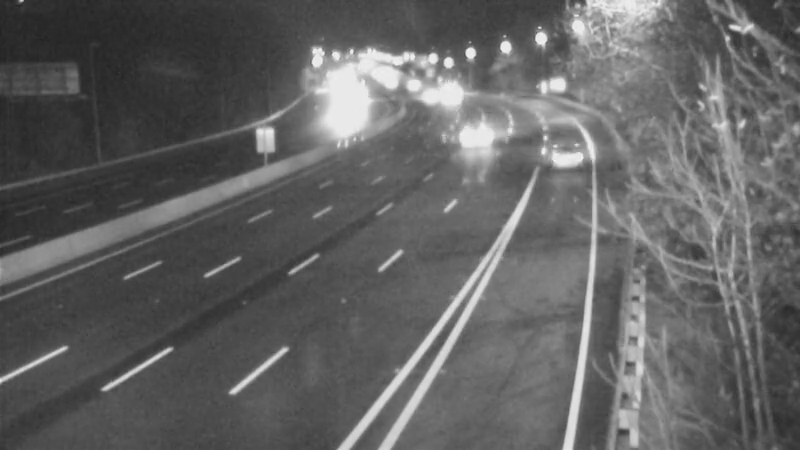vehicle: (523, 112, 603, 192), (390, 60, 440, 110), (400, 70, 450, 120), (424, 69, 474, 119), (449, 109, 499, 159)
